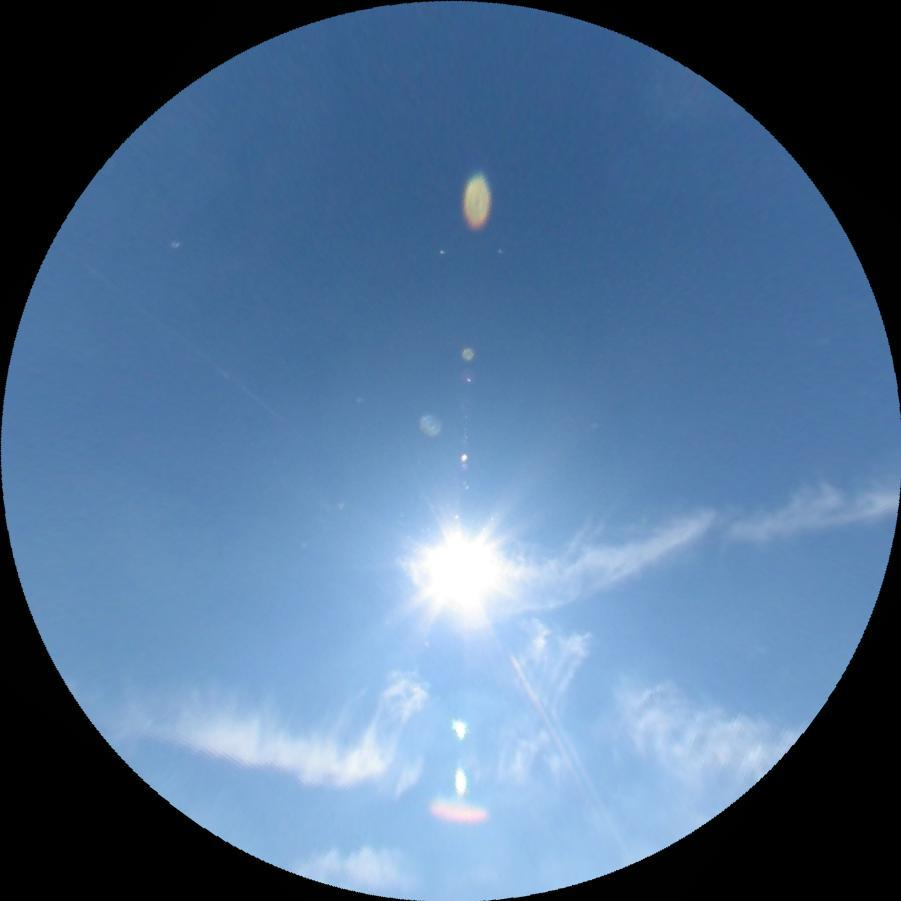parasite: (504, 649, 592, 806)
sun: (410, 517, 508, 616)
